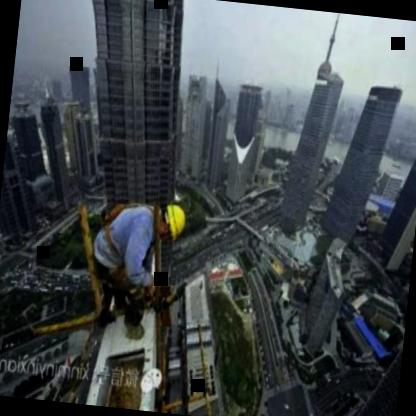helmet: (155, 197, 188, 246)
